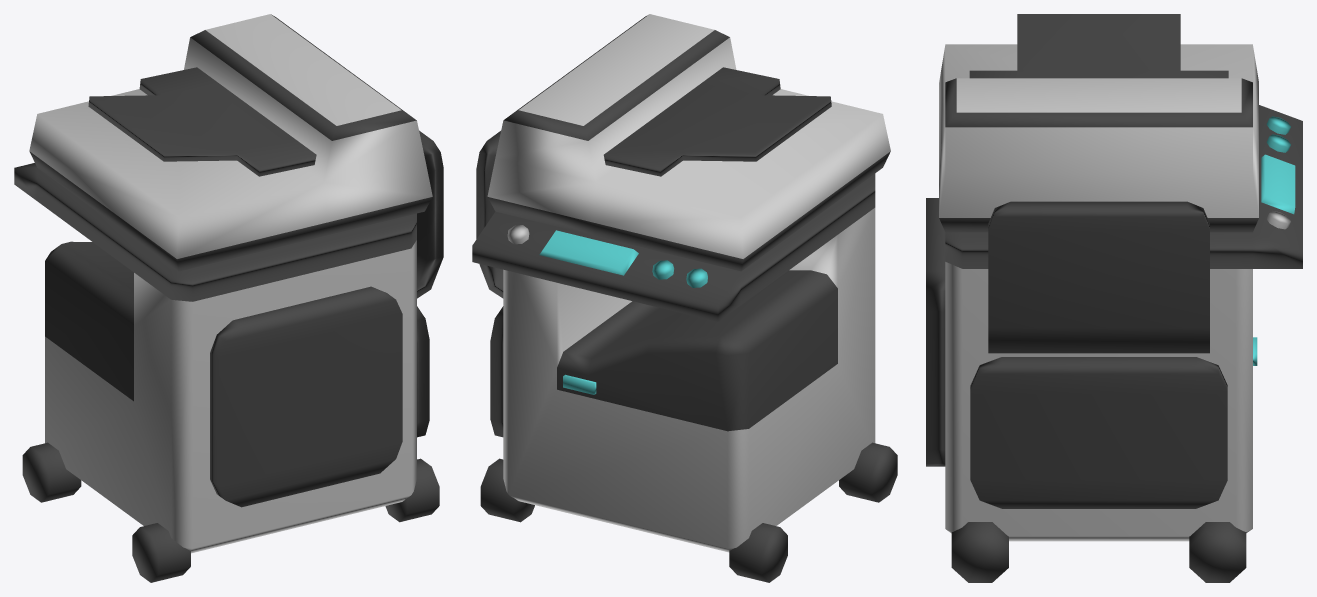
The model's file is mesh_printer_01.fbx.
3 renders of one model, left to right at view 1: azimuth 30°, elevation 25°; view 2: azimuth 150°, elevation 25°; view 3: azimuth 270°, elevation 25°, orthographic. The views are drawn at different scales.
Visible parts, largest first — view 1: mesh_printer_01; view 2: mesh_printer_01; view 3: mesh_printer_01.
Part boxes in pixels (box(x1,y1,x2,y2)): mesh_printer_01: box(14, 14, 443, 582); mesh_printer_01: box(472, 14, 897, 582); mesh_printer_01: box(926, 14, 1302, 582).
Bounding box in the file's own units: 25.45 × 33.56 × 25.37.
